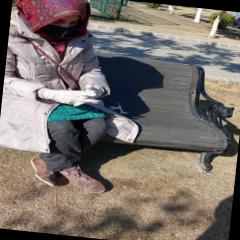gloved: (45, 86, 92, 106), (74, 84, 102, 110)
